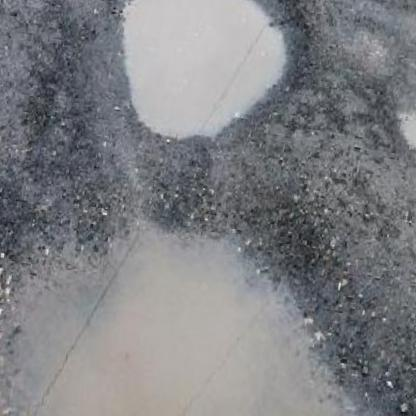pothole: (0, 139, 416, 416), (90, 0, 318, 161), (392, 98, 416, 161)
